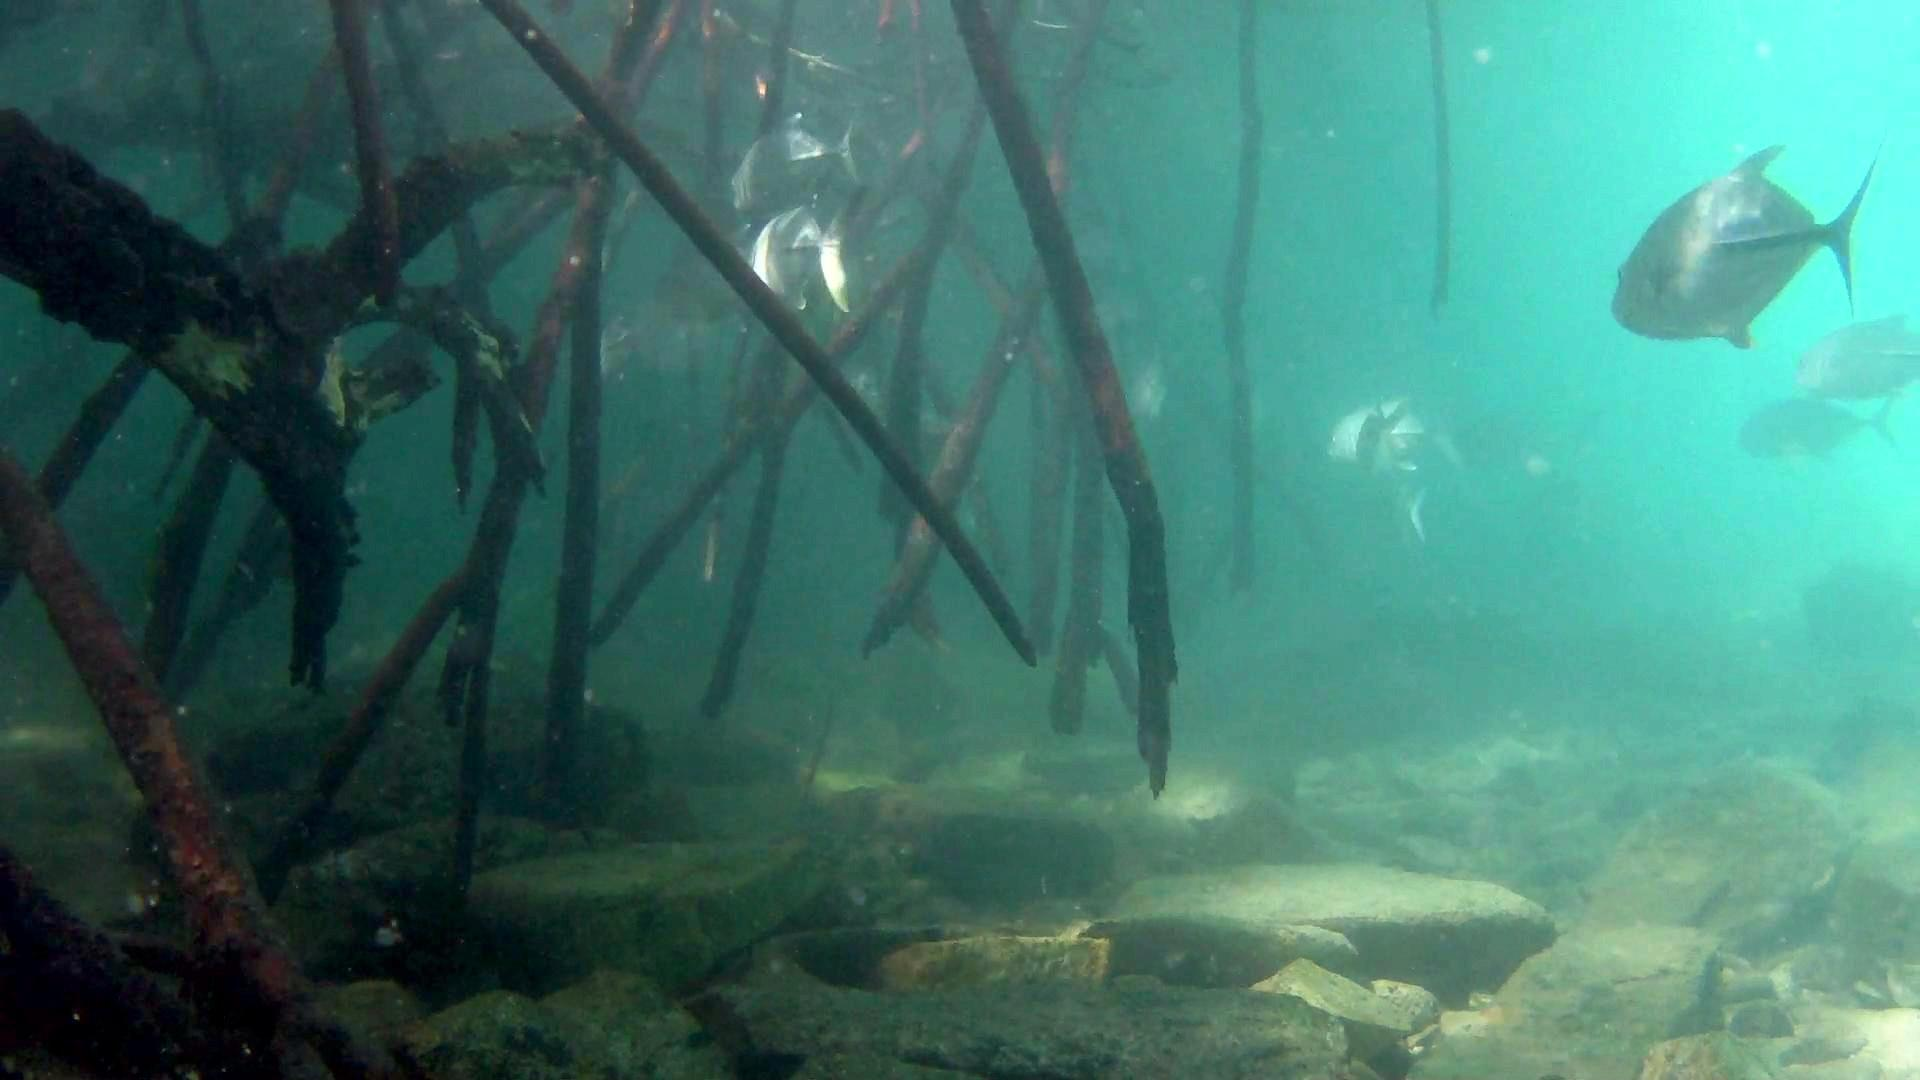caranx: (1598, 136, 1874, 357)
